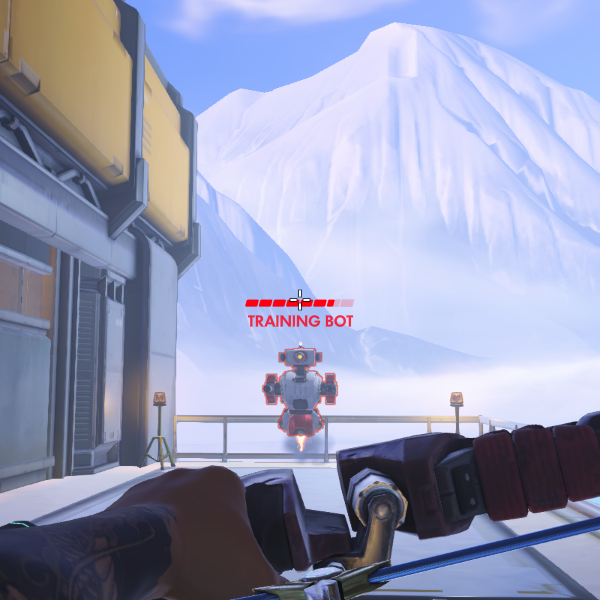hpbar: (245, 299, 355, 307)
